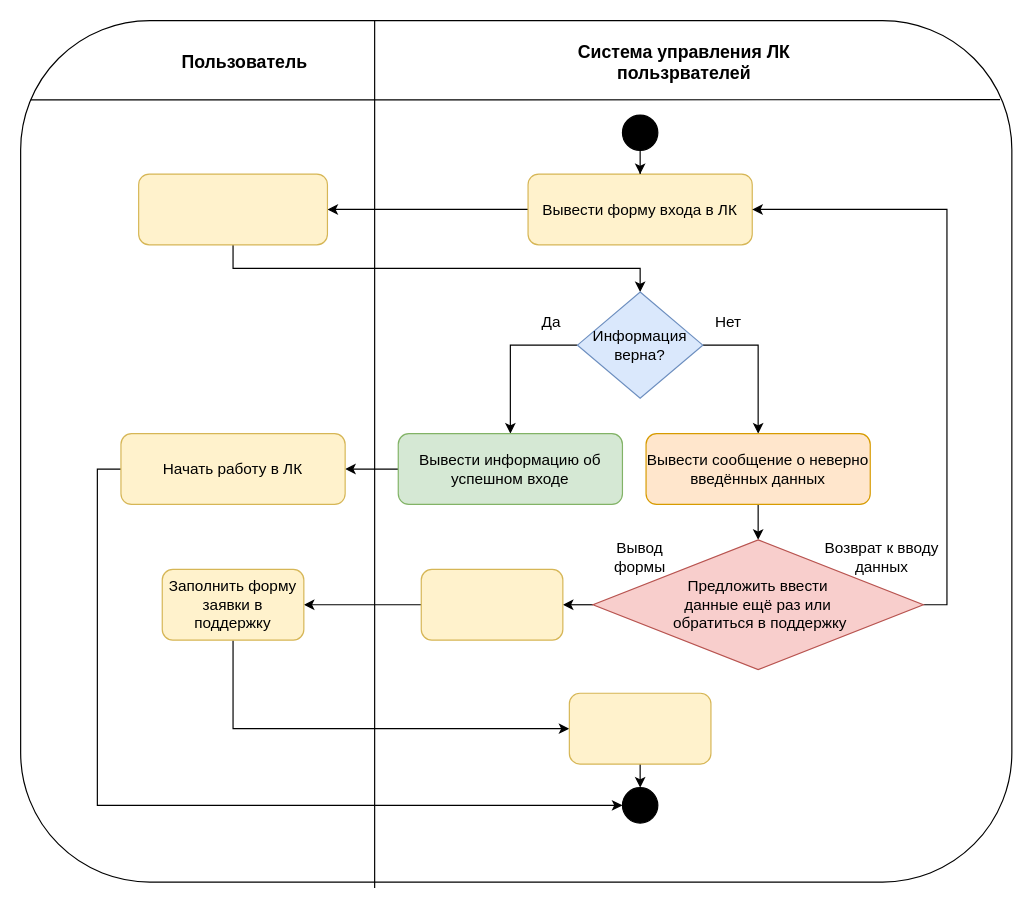
The diagram is 1033 pixels wide and 911 high, and some of its shapes have lost their labels. The centre of each missing label's shape, as x and y in pixels:
"Ввести логин и пароль" belongs at pixel 232 209.
"Вывести форму заявки в поддержку" belongs at pixel 491 604.
"Отправить заявку" belongs at pixel 639 728.
